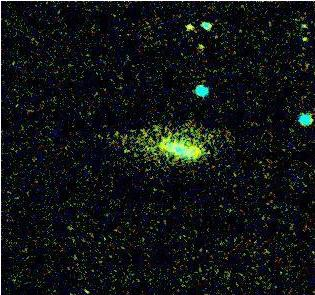star: (173, 13, 203, 43)
